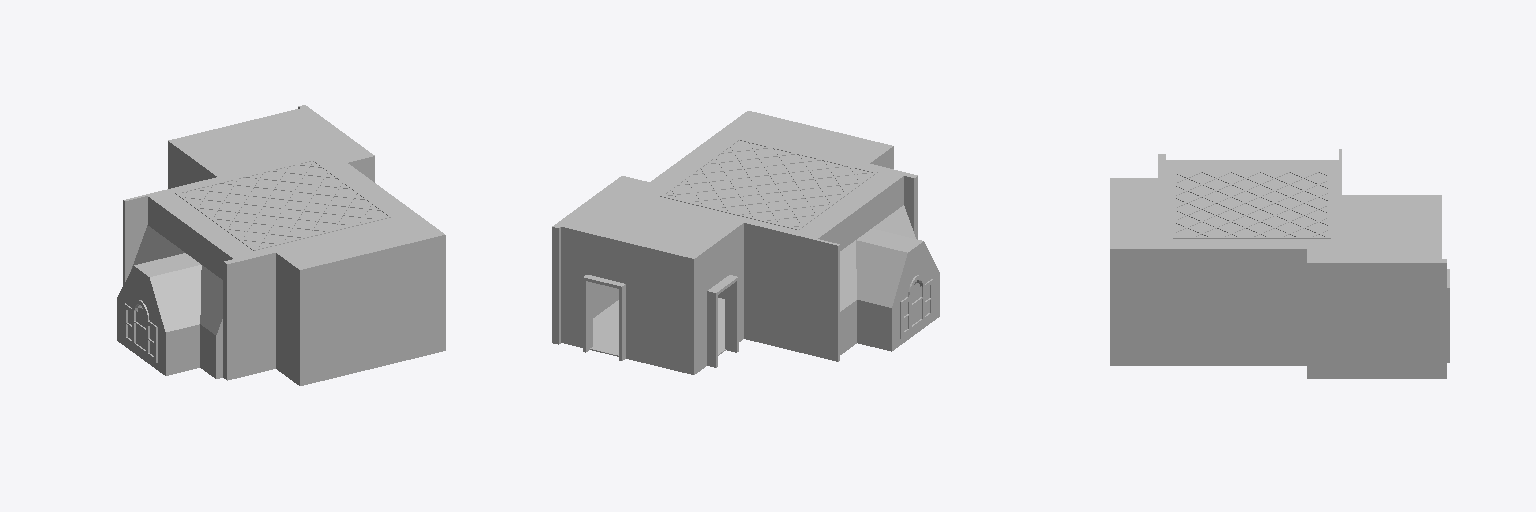
The model's file is cindy_room_2.obj.
3 views of the same model, side by side, from view 1: azimuth 30°, elevation 25°; view 2: azimuth 150°, elevation 25°; view 3: azimuth 270°, elevation 25° (orthographic).
Parts seen in each view (by area): view 1: polySurface2422; view 2: polySurface2422; view 3: polySurface2422.
Boxes of the visible parts, x1=… form: polySurface2422: x1=117, y1=105, x2=445, y2=385; polySurface2422: x1=552, y1=111, x2=939, y2=374; polySurface2422: x1=1110, y1=149, x2=1449, y2=378.
Bounding box in the file's own units: 9.55 × 4.02 × 10.59.